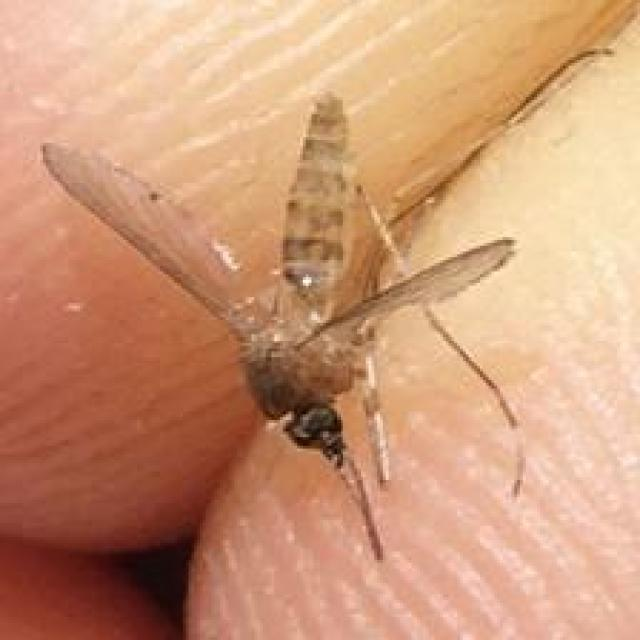Culex: (40, 88, 529, 563)
